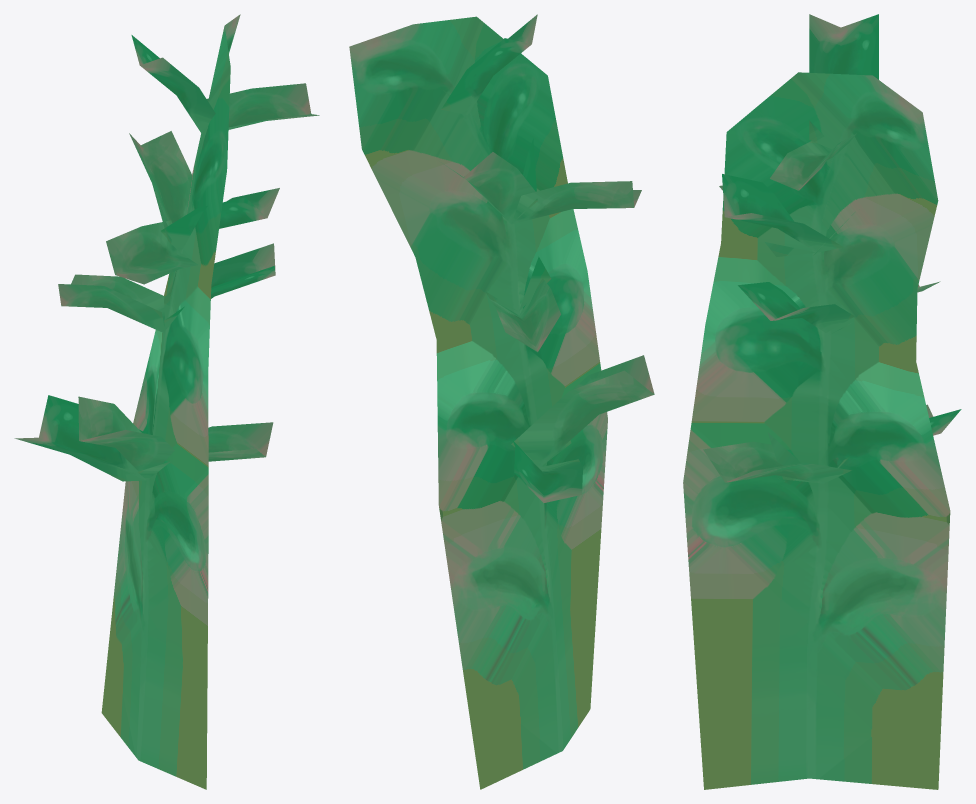
File: SM_Plant_02_01.fbx
The picture shows the model from 3 angles, left to right: view 1: azimuth 30°, elevation 25°; view 2: azimuth 150°, elevation 25°; view 3: azimuth 270°, elevation 25°; orthographic projection. The views are drawn at different scales.
Visible parts, largest first — view 1: SM_Plant_02_01_LOD0; view 2: SM_Plant_02_01_LOD0; view 3: SM_Plant_02_01_LOD0.
Part boxes in pixels (x1,y1,x2,y2): SM_Plant_02_01_LOD0: [14, 14, 319, 789]; SM_Plant_02_01_LOD0: [349, 14, 654, 789]; SM_Plant_02_01_LOD0: [683, 14, 961, 789].
Size of what is drawn, in the model's own units: 31.18 by 84.36 by 27.41.
